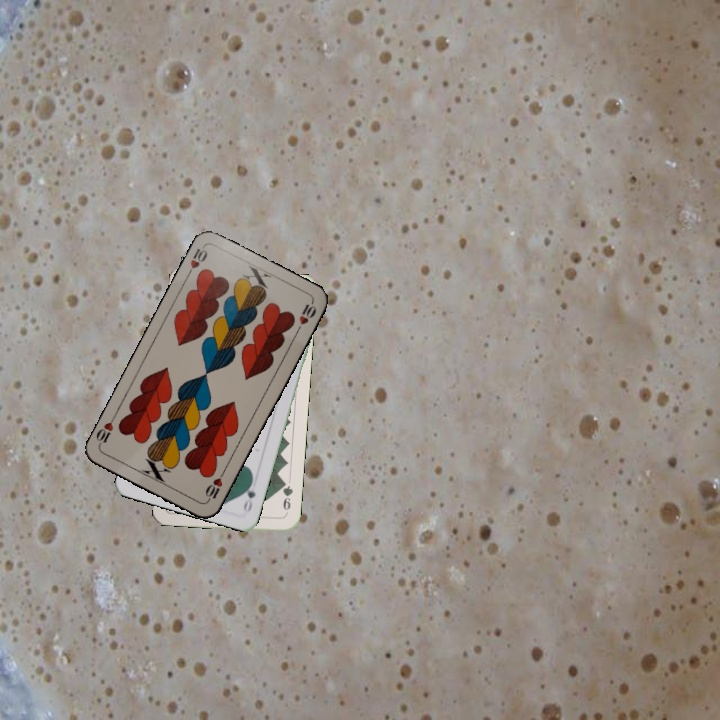G9: (278, 477, 295, 518)
GO: (239, 475, 258, 515)
H10: (182, 242, 210, 280), (201, 466, 228, 504)
